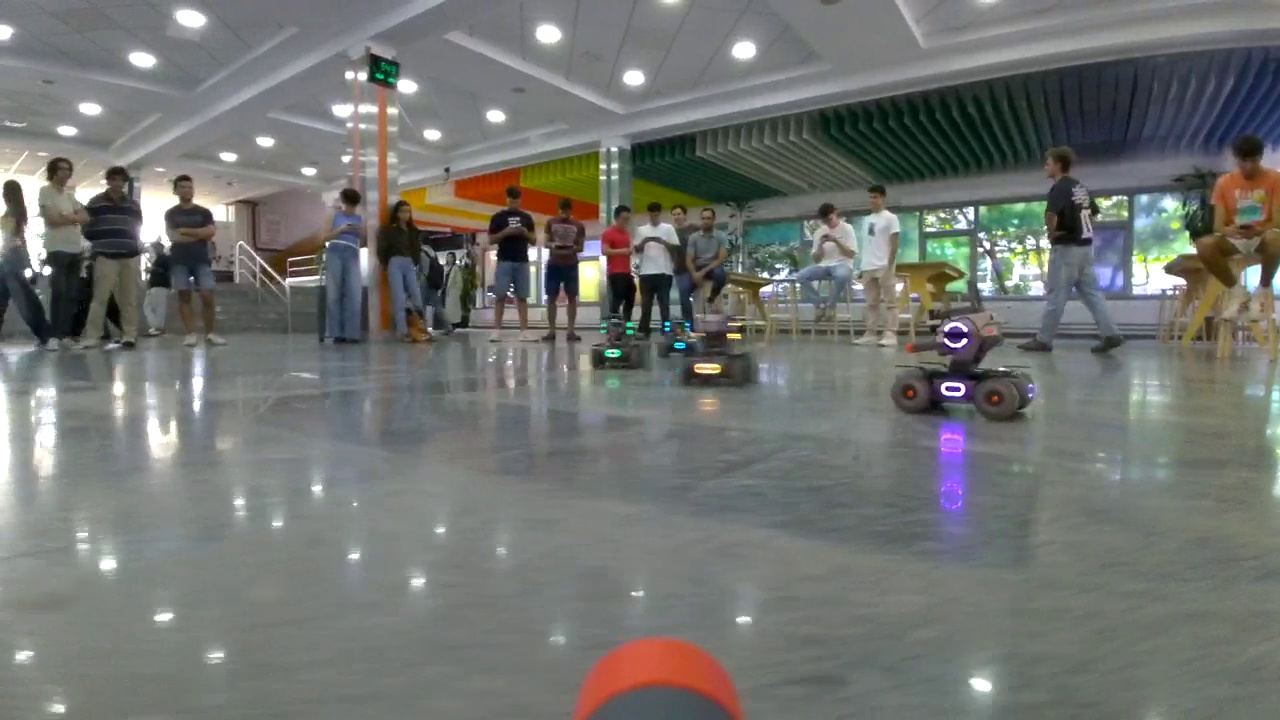robot: (889, 310, 1036, 423), (683, 314, 755, 385), (590, 312, 652, 370), (659, 318, 702, 354)
